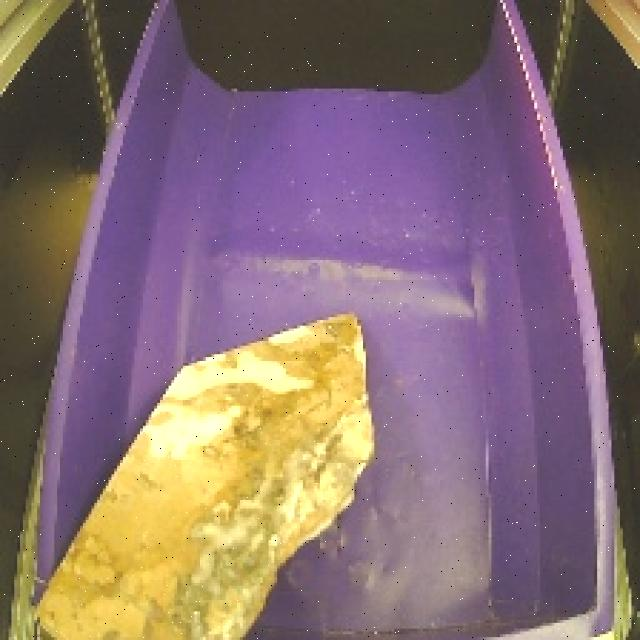china: (20, 300, 377, 640)
